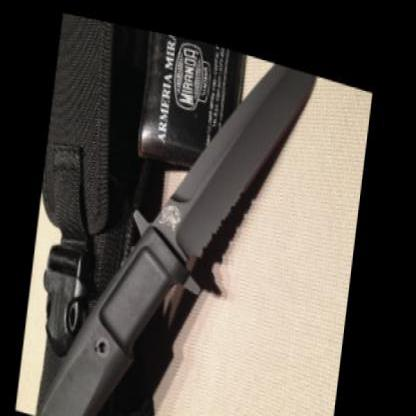knife: (149, 27, 324, 289)
